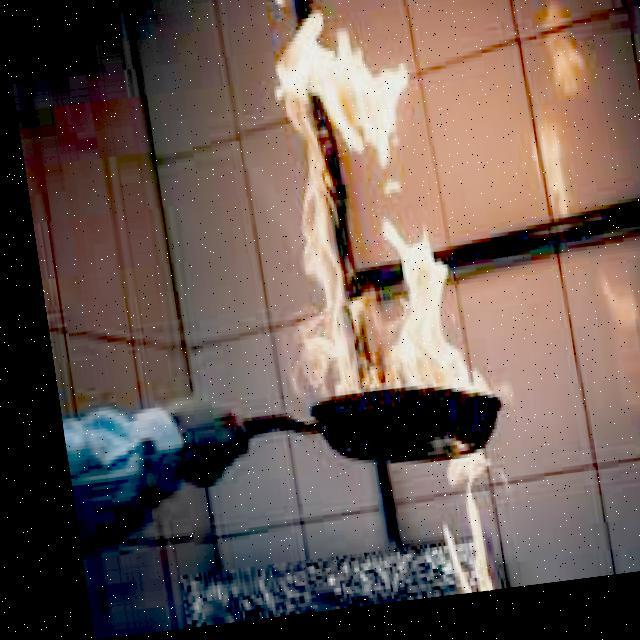Fire: (244, 8, 510, 434)
